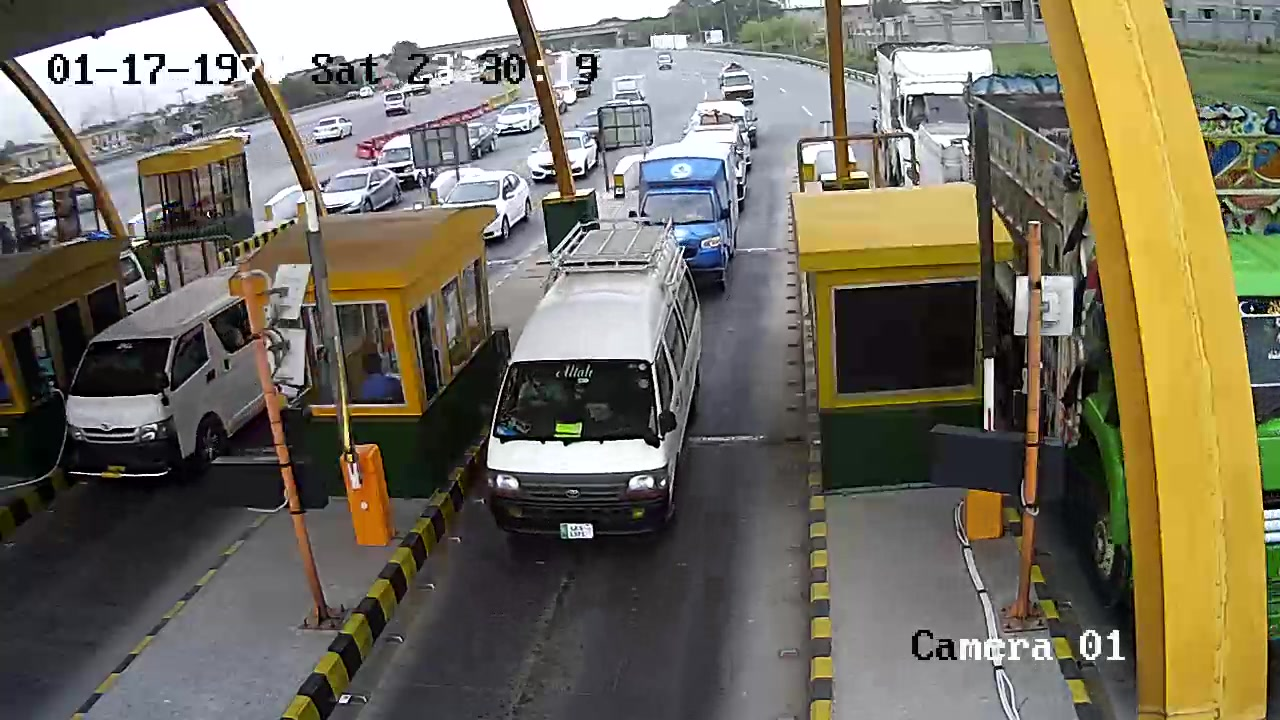F2: (486, 217, 699, 549)
